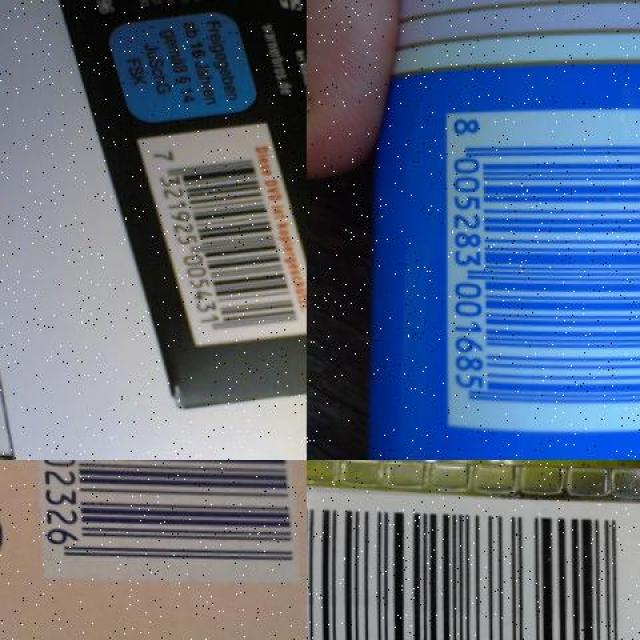Barcode: (441, 92, 640, 435), (306, 488, 640, 640), (136, 112, 307, 348), (29, 460, 295, 583)
